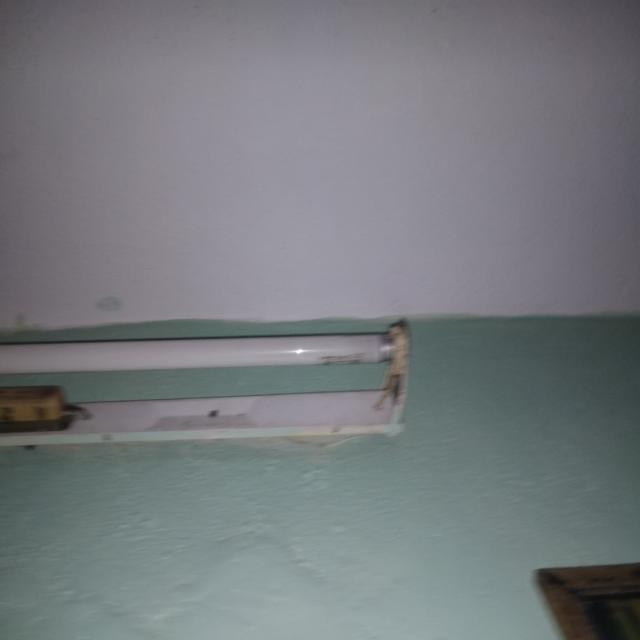tubelight_off: (0, 323, 413, 448)
